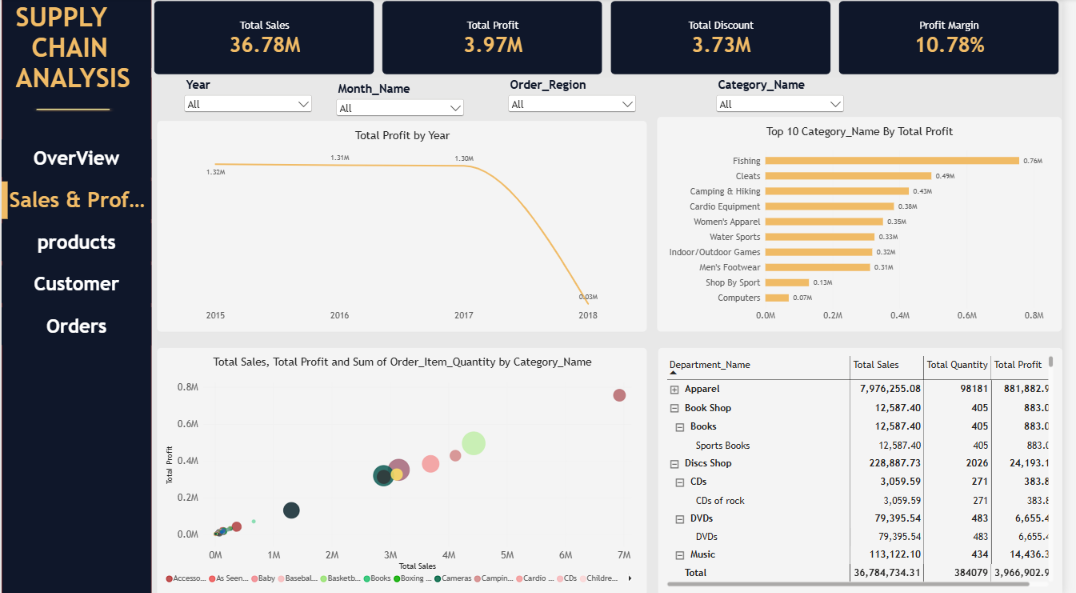

Layout of this report page (visuals, bound fields, positions):
{"tool":"powerbi","page":{"name":"Sales & Profit Alnaysis","canvas":[1920,1080],"ordinal":1},"visuals":[{"type":"shape","box":[0,0,271.4,1081],"z":0},{"type":"textbox","box":[25.3,5.4,244.3,199.1],"z":1},{"type":"pageNavigator","box":[0,254.8,271.4,376.2],"z":2},{"type":"shape","box":[54.3,191.8,150.2,12.7],"z":3},{"type":"cardVisual","fields":{"Data":["Table.Total Sales","Table.Total Profit","Table.Total Discount","Table.Profit Margin %"]},"box":[271.4,0,1647.6,142.9],"z":4},{"type":"slicer","fields":{"Values":["Dim_Location.Order_Region"]},"box":[911.9,142.9,240.9,257.5],"z":6},{"type":"slicer","fields":{"Values":["Date.Month_Name"]},"box":[600,150,240.9,257.5],"z":7},{"type":"slicer","fields":{"Values":["Date.Year"]},"box":[326.2,142.9,240.9,257.5],"z":8},{"type":"slicer","fields":{"Values":["DimProduct.Category_Name"]},"box":[1288.1,142.9,240.9,257.5],"z":9},{"type":"clusteredBarChart","title":"Top 10  Category_Name By Total Profit","fields":{"Category":["DimProduct.Category_Name"],"Y":["Table.Total Profit"]},"box":[1185.7,214.3,733.3,390.5],"z":10},{"type":"lineChart","fields":{"Category":["Date.Date.Variation.Date Hierarchy.Year","Date.Date.Variation.Date Hierarchy.Quarter","Date.Date.Variation.Date Hierarchy.Month","Date.Date.Variation.Date Hierarchy.Day"],"Y":["Table.Total Profit"]},"box":[281,221.4,888.1,383.3],"z":11},{"type":"scatterChart","fields":{"Series":["DimProduct.Category_Name"],"Size":["Sum(Fact_Table.Order_Item_Quantity)"],"X":["Table.Total Sales"],"Y":["Table.Total Profit"]},"box":[281,631,888.1,450],"z":12},{"type":"pivotTable","fields":{"Rows":["DimProduct.Department_Name","DimProduct.Category_Name","DimProduct.Product_Name"],"Values":["Table.Total Sales","Table.Total Quantity","Table.Total Profit"]},"box":[1186,630,733.3,450],"z":13},{"type":"actionButton","box":[0,0,100,40],"z":14}]}

Visuals, with their boxes in screenshot pixels (x1, y1, x2, y2), scaled from the page's 1920x1080 canvas onto the 1076x593 screenshot:
shape: [0, 0, 152, 592]
textbox: [14, 3, 151, 112]
pageNavigator: [0, 140, 152, 346]
shape: [30, 105, 115, 112]
cardVisual - Table.Total Sales x Table.Total Profit: [152, 0, 1075, 78]
slicer - Dim_Location.Order_Region: [511, 78, 646, 220]
slicer - Date.Month_Name: [336, 82, 471, 224]
slicer - Date.Year: [183, 78, 318, 220]
slicer - DimProduct.Category_Name: [722, 78, 857, 220]
"Top 10  Category_Name By Total Profit" clusteredBarChart: [664, 118, 1075, 332]
lineChart - Date.Date.Variation.Date Hierarchy.Year x Date.Date.Variation.Date Hierarchy.Quarter: [157, 122, 655, 332]
scatterChart - DimProduct.Category_Name x Sum(Fact_Table.Order_Item_Quantity): [157, 346, 655, 592]
pivotTable - DimProduct.Department_Name x DimProduct.Category_Name: [665, 346, 1075, 592]
actionButton: [0, 0, 56, 22]
